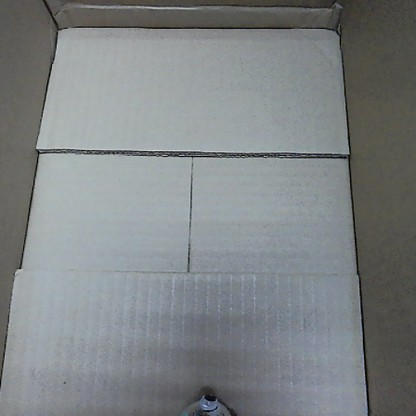whitefish: (174, 388, 237, 414)
